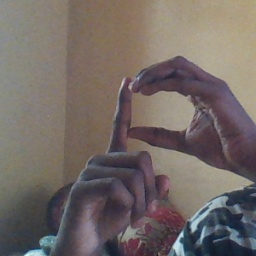P: (65, 55, 221, 225)
